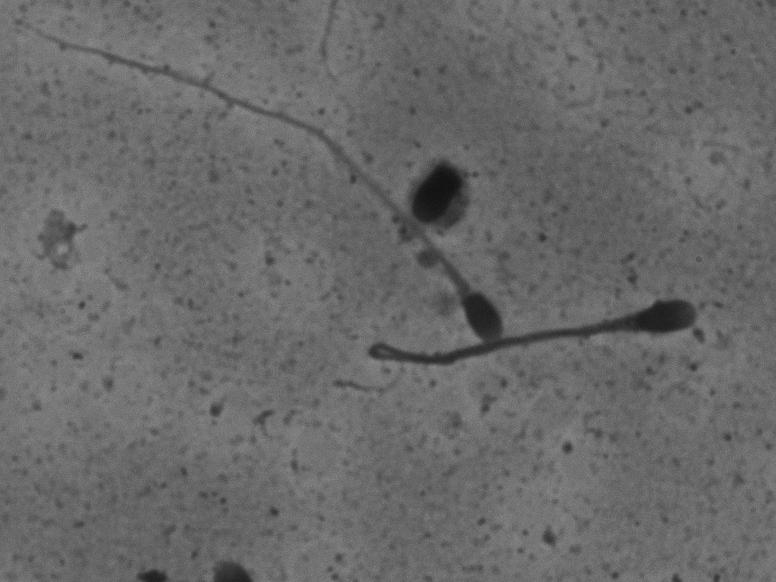Abnormal: (17, 14, 514, 345), (352, 284, 717, 385)
